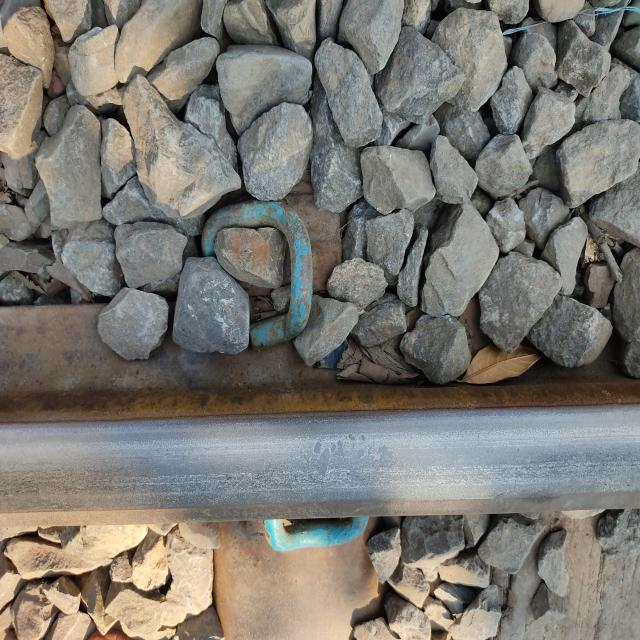non-defective: (198, 190, 404, 555)
